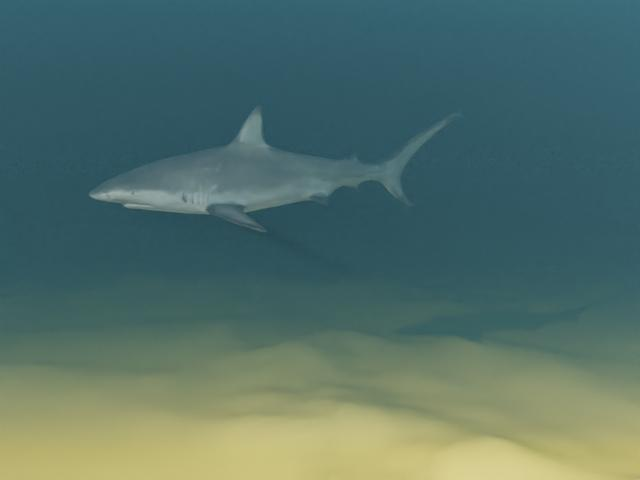Carribean Shark.001: (88, 105, 461, 232)
